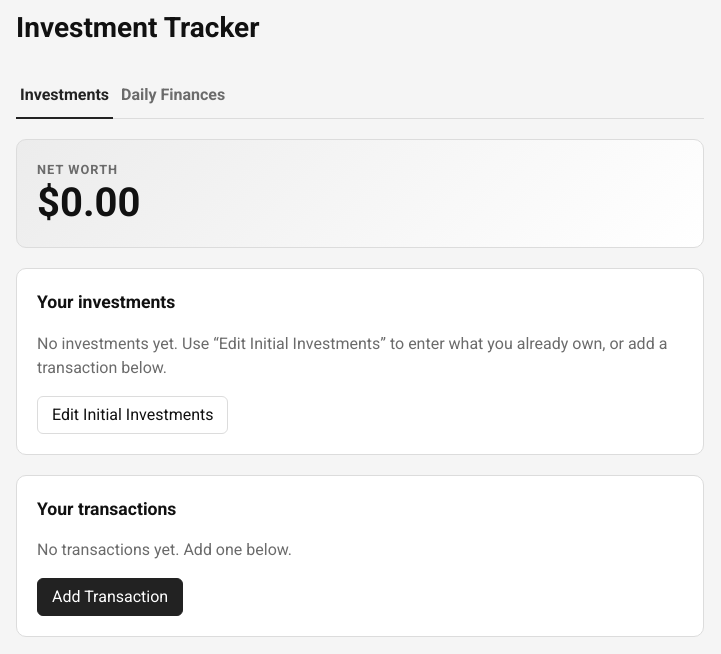
Scenario: the daily finances tab › lists financial transactions newest first, without an investment type or worth column
Click the tab "Daily Finances" at (173, 96), box [117,73,229,119]
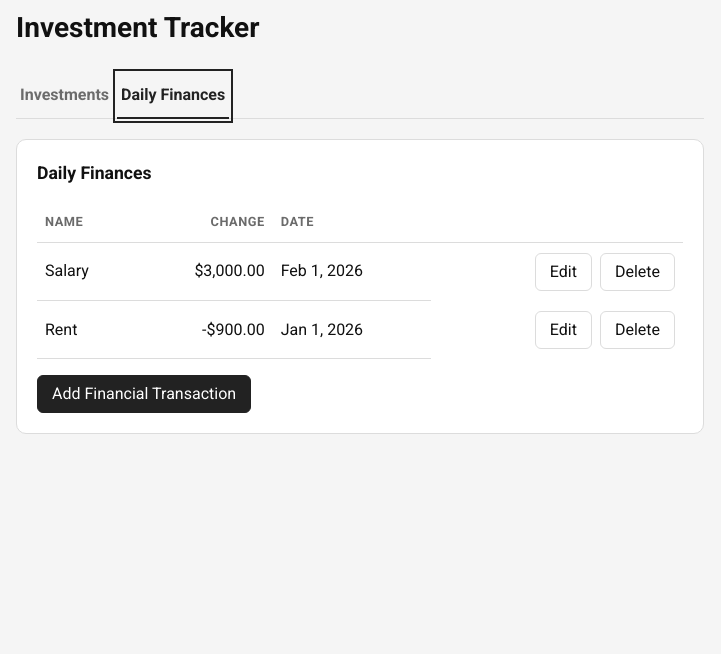
Expected: the number of rows is 3, [37,202,683,242]; [37,242,683,301]; [37,301,683,359]
Expected: the text "Worth" is gone
Expected: the text "Salary" is shown, [37,242,134,301]
